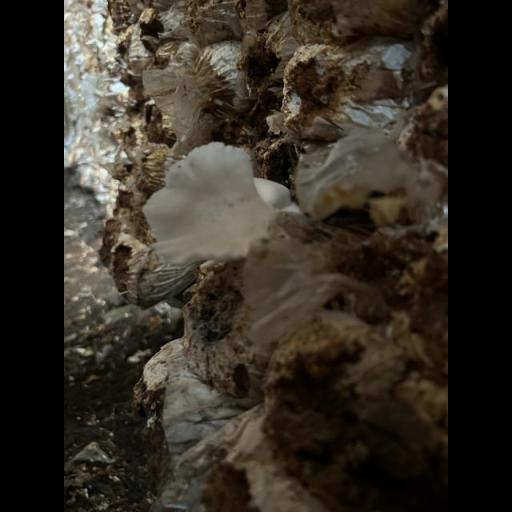White Oyster Mushroom: (115, 127, 295, 277)
